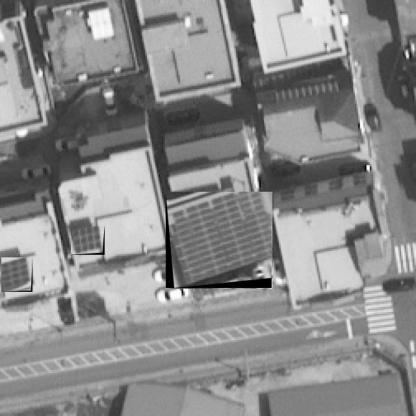solar-pv-panel: (169, 192, 272, 288), (1, 257, 32, 292), (71, 226, 103, 255)
